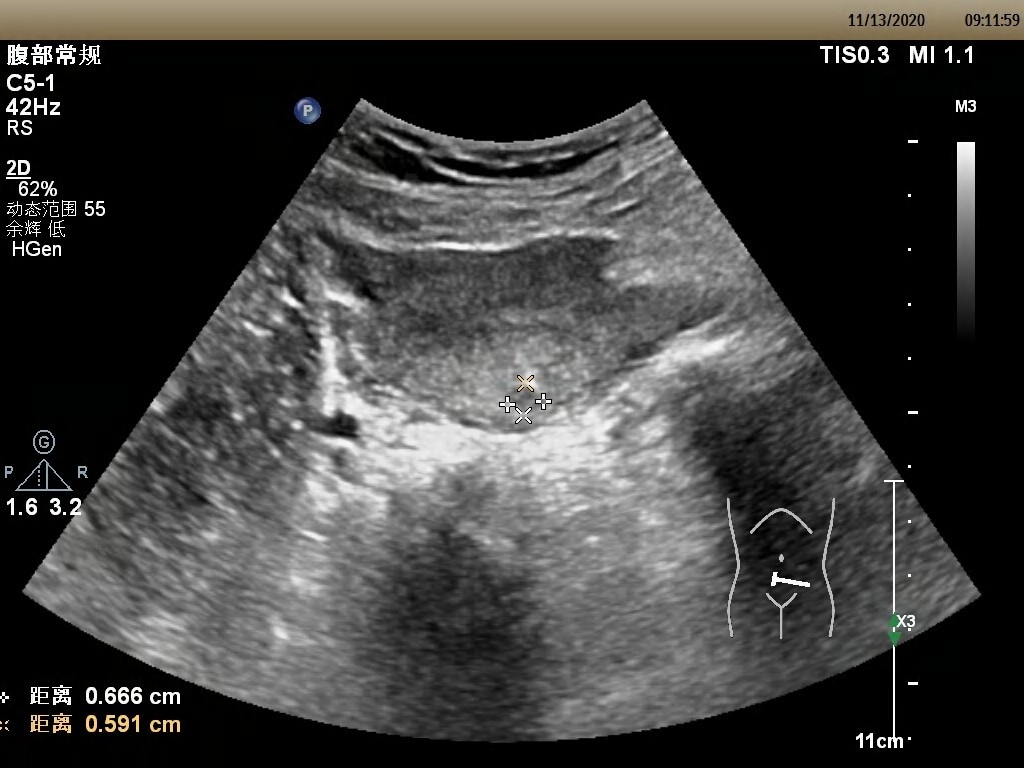肌瘤: (509, 383, 542, 413)
